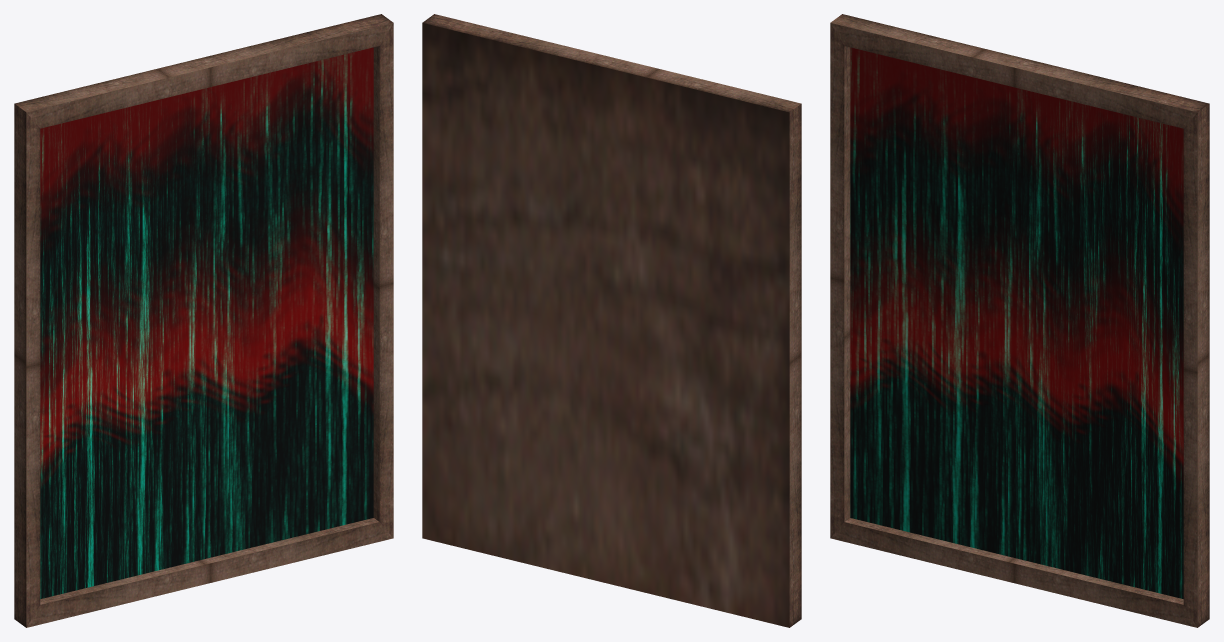
The model's file is painting1.fbx.
3 renders of one model, left to right at view 1: azimuth 30°, elevation 25°; view 2: azimuth 150°, elevation 25°; view 3: azimuth 330°, elevation 25°, orthographic.
Visible parts, largest first — view 1: painting1; view 2: painting1; view 3: painting1.
Part boxes in pixels (box(x1,y1,x2,y2)): painting1: box(14, 14, 393, 627); painting1: box(422, 14, 801, 627); painting1: box(830, 14, 1209, 627).
Bounding box in the file's own units: 74.54 × 100 × 4.23.
